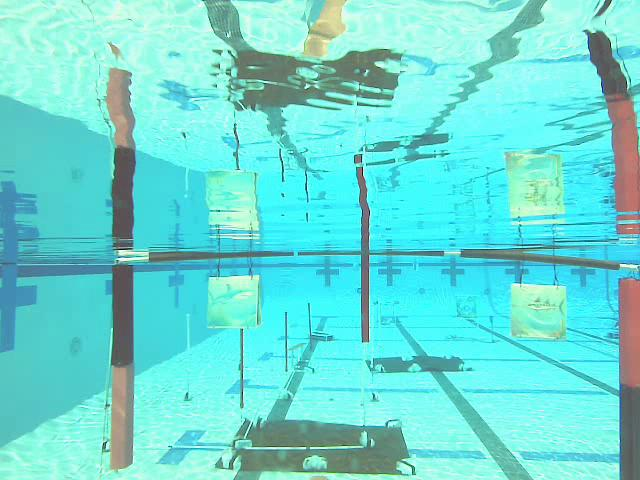black_poster: (240, 330, 243, 408), (284, 312, 287, 371), (307, 302, 311, 337)
divider: (620, 279, 639, 480), (359, 206, 369, 341)
left_gate_poster: (111, 264, 133, 468)
shark: (208, 275, 261, 328)
swordfish: (511, 285, 565, 339)
white_poster: (186, 313, 189, 397)
